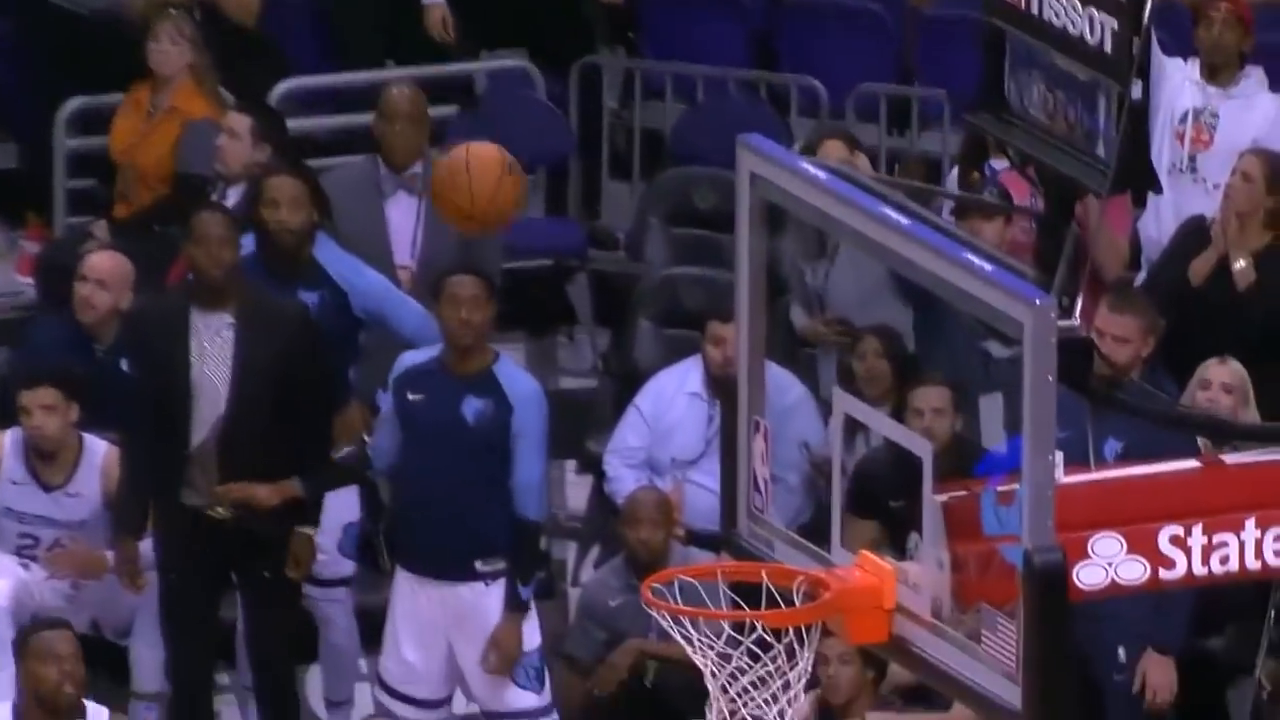ball: (431, 142, 533, 234)
